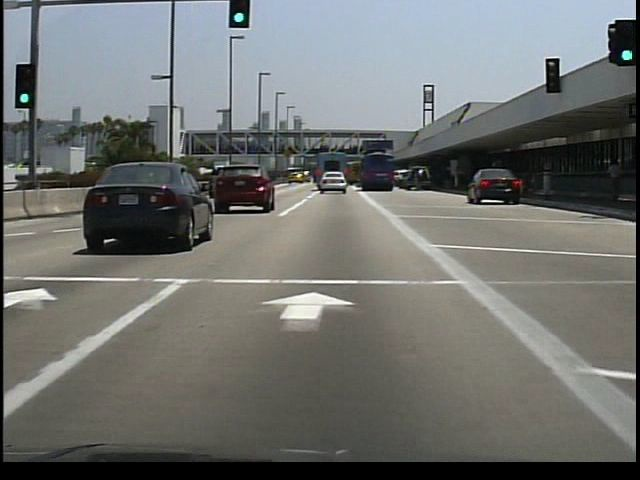person: (600, 157, 623, 208)
